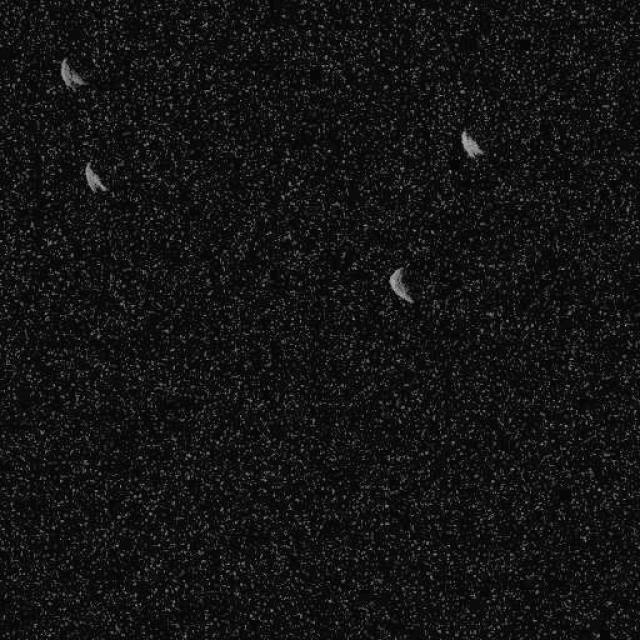D2: (59, 56, 89, 90), (388, 265, 413, 304), (82, 161, 109, 194), (459, 128, 485, 158)
